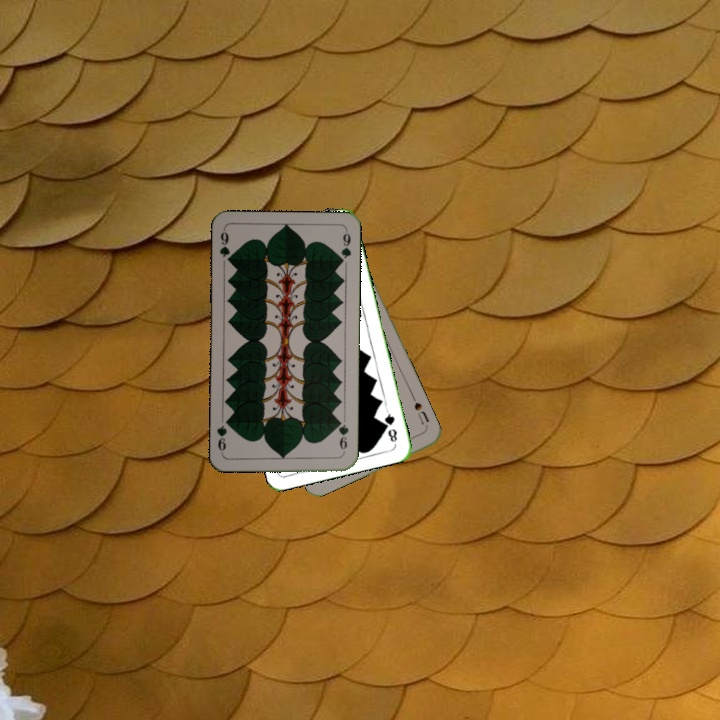G8: (380, 406, 400, 445)
G9: (215, 226, 234, 267), (334, 416, 351, 456)
SU: (408, 393, 432, 432)
